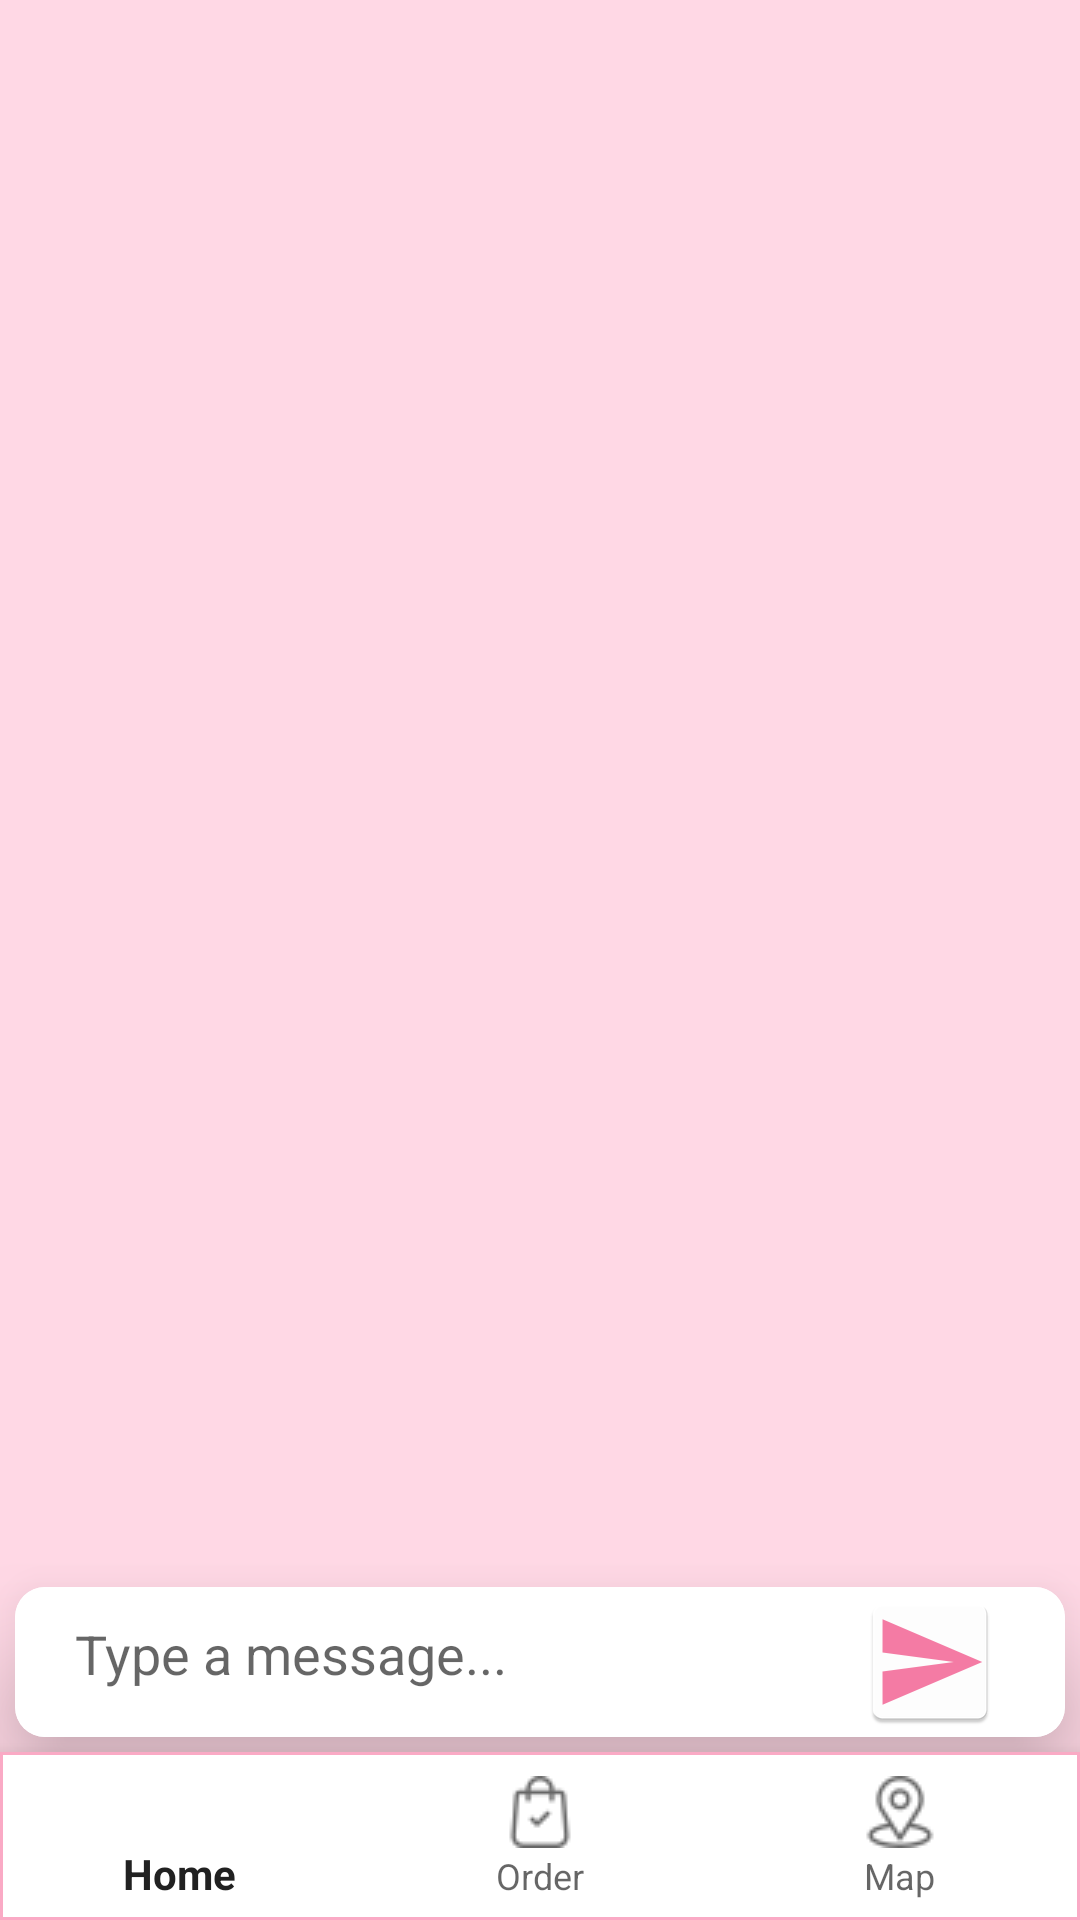

Where to tap for icons on this 1080 x 1920 app screen, as (x=x, y=y):
send: (x=930, y=1667)
